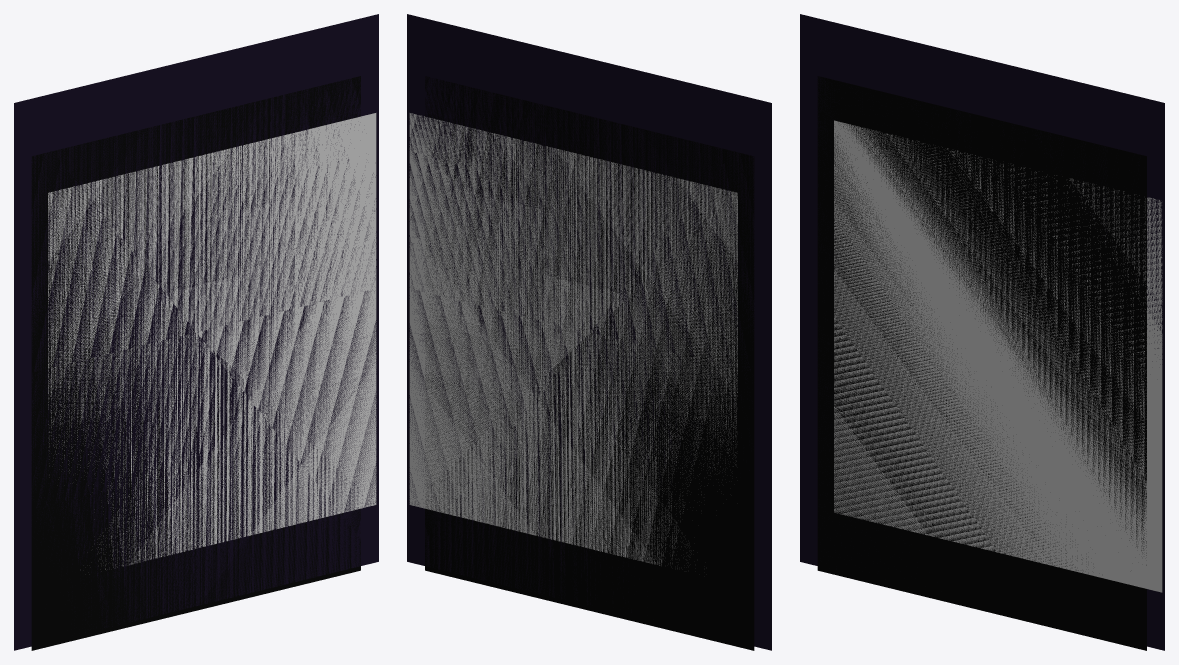
Rendered from Skeleton Prefab Mesh _Eb_SkillDeath_01_.glb.
The picture shows the model from 3 angles, left to right: view 1: azimuth 30°, elevation 25°; view 2: azimuth 150°, elevation 25°; view 3: azimuth 330°, elevation 25°; orthographic projection.
Visible parts, largest first — view 1: Skeleton Prefab Mesh "Eb_SkillDeath_01"; view 2: Skeleton Prefab Mesh "Eb_SkillDeath_01"; view 3: Skeleton Prefab Mesh "Eb_SkillDeath_01".
Boxes of the visible parts, x1,y1,x2,y2 form: Skeleton Prefab Mesh "Eb_SkillDeath_01": (14, 14, 378, 650); Skeleton Prefab Mesh "Eb_SkillDeath_01": (407, 14, 771, 650); Skeleton Prefab Mesh "Eb_SkillDeath_01": (800, 14, 1164, 650).
Size of the model in its own units: 7.17 by 10.37 by 0.
